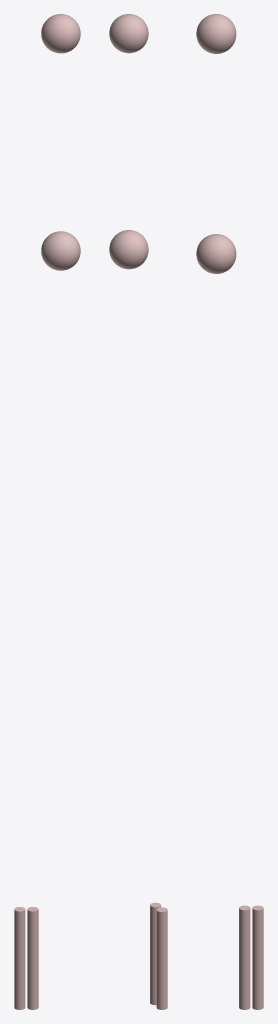
The model's file is OUTFITTING_INTERIOR__SHOWER AFT STBD__approx parts locs.glb.
3 renders of one model, left to right at view 1: azimuth 90°, elevation 25°; view 2: azimuth 210°, elevation 25°; view 3: azimuth 270°, elevation 25°, orthographic.
Parts seen in each view (by area): view 1: approx parts locs; view 2: approx parts locs; view 3: approx parts locs.
Part boxes in pixels (<box>): approx parts locs: <box>14,14,80,1009</box>; approx parts locs: <box>109,14,167,1009</box>; approx parts locs: <box>196,14,263,1009</box>.
Size of the model in its own units: 0.0773 by 2.1 by 0.128.
